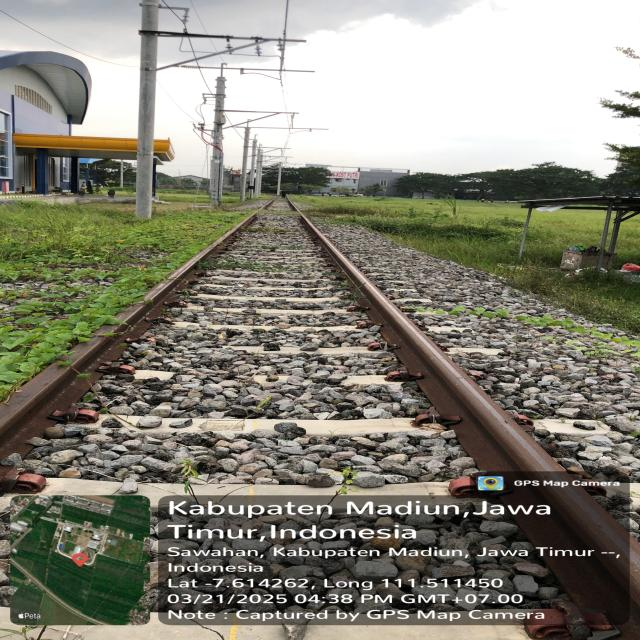rail-detection: (300, 214, 640, 624), (115, 215, 257, 335), (0, 335, 121, 445)
